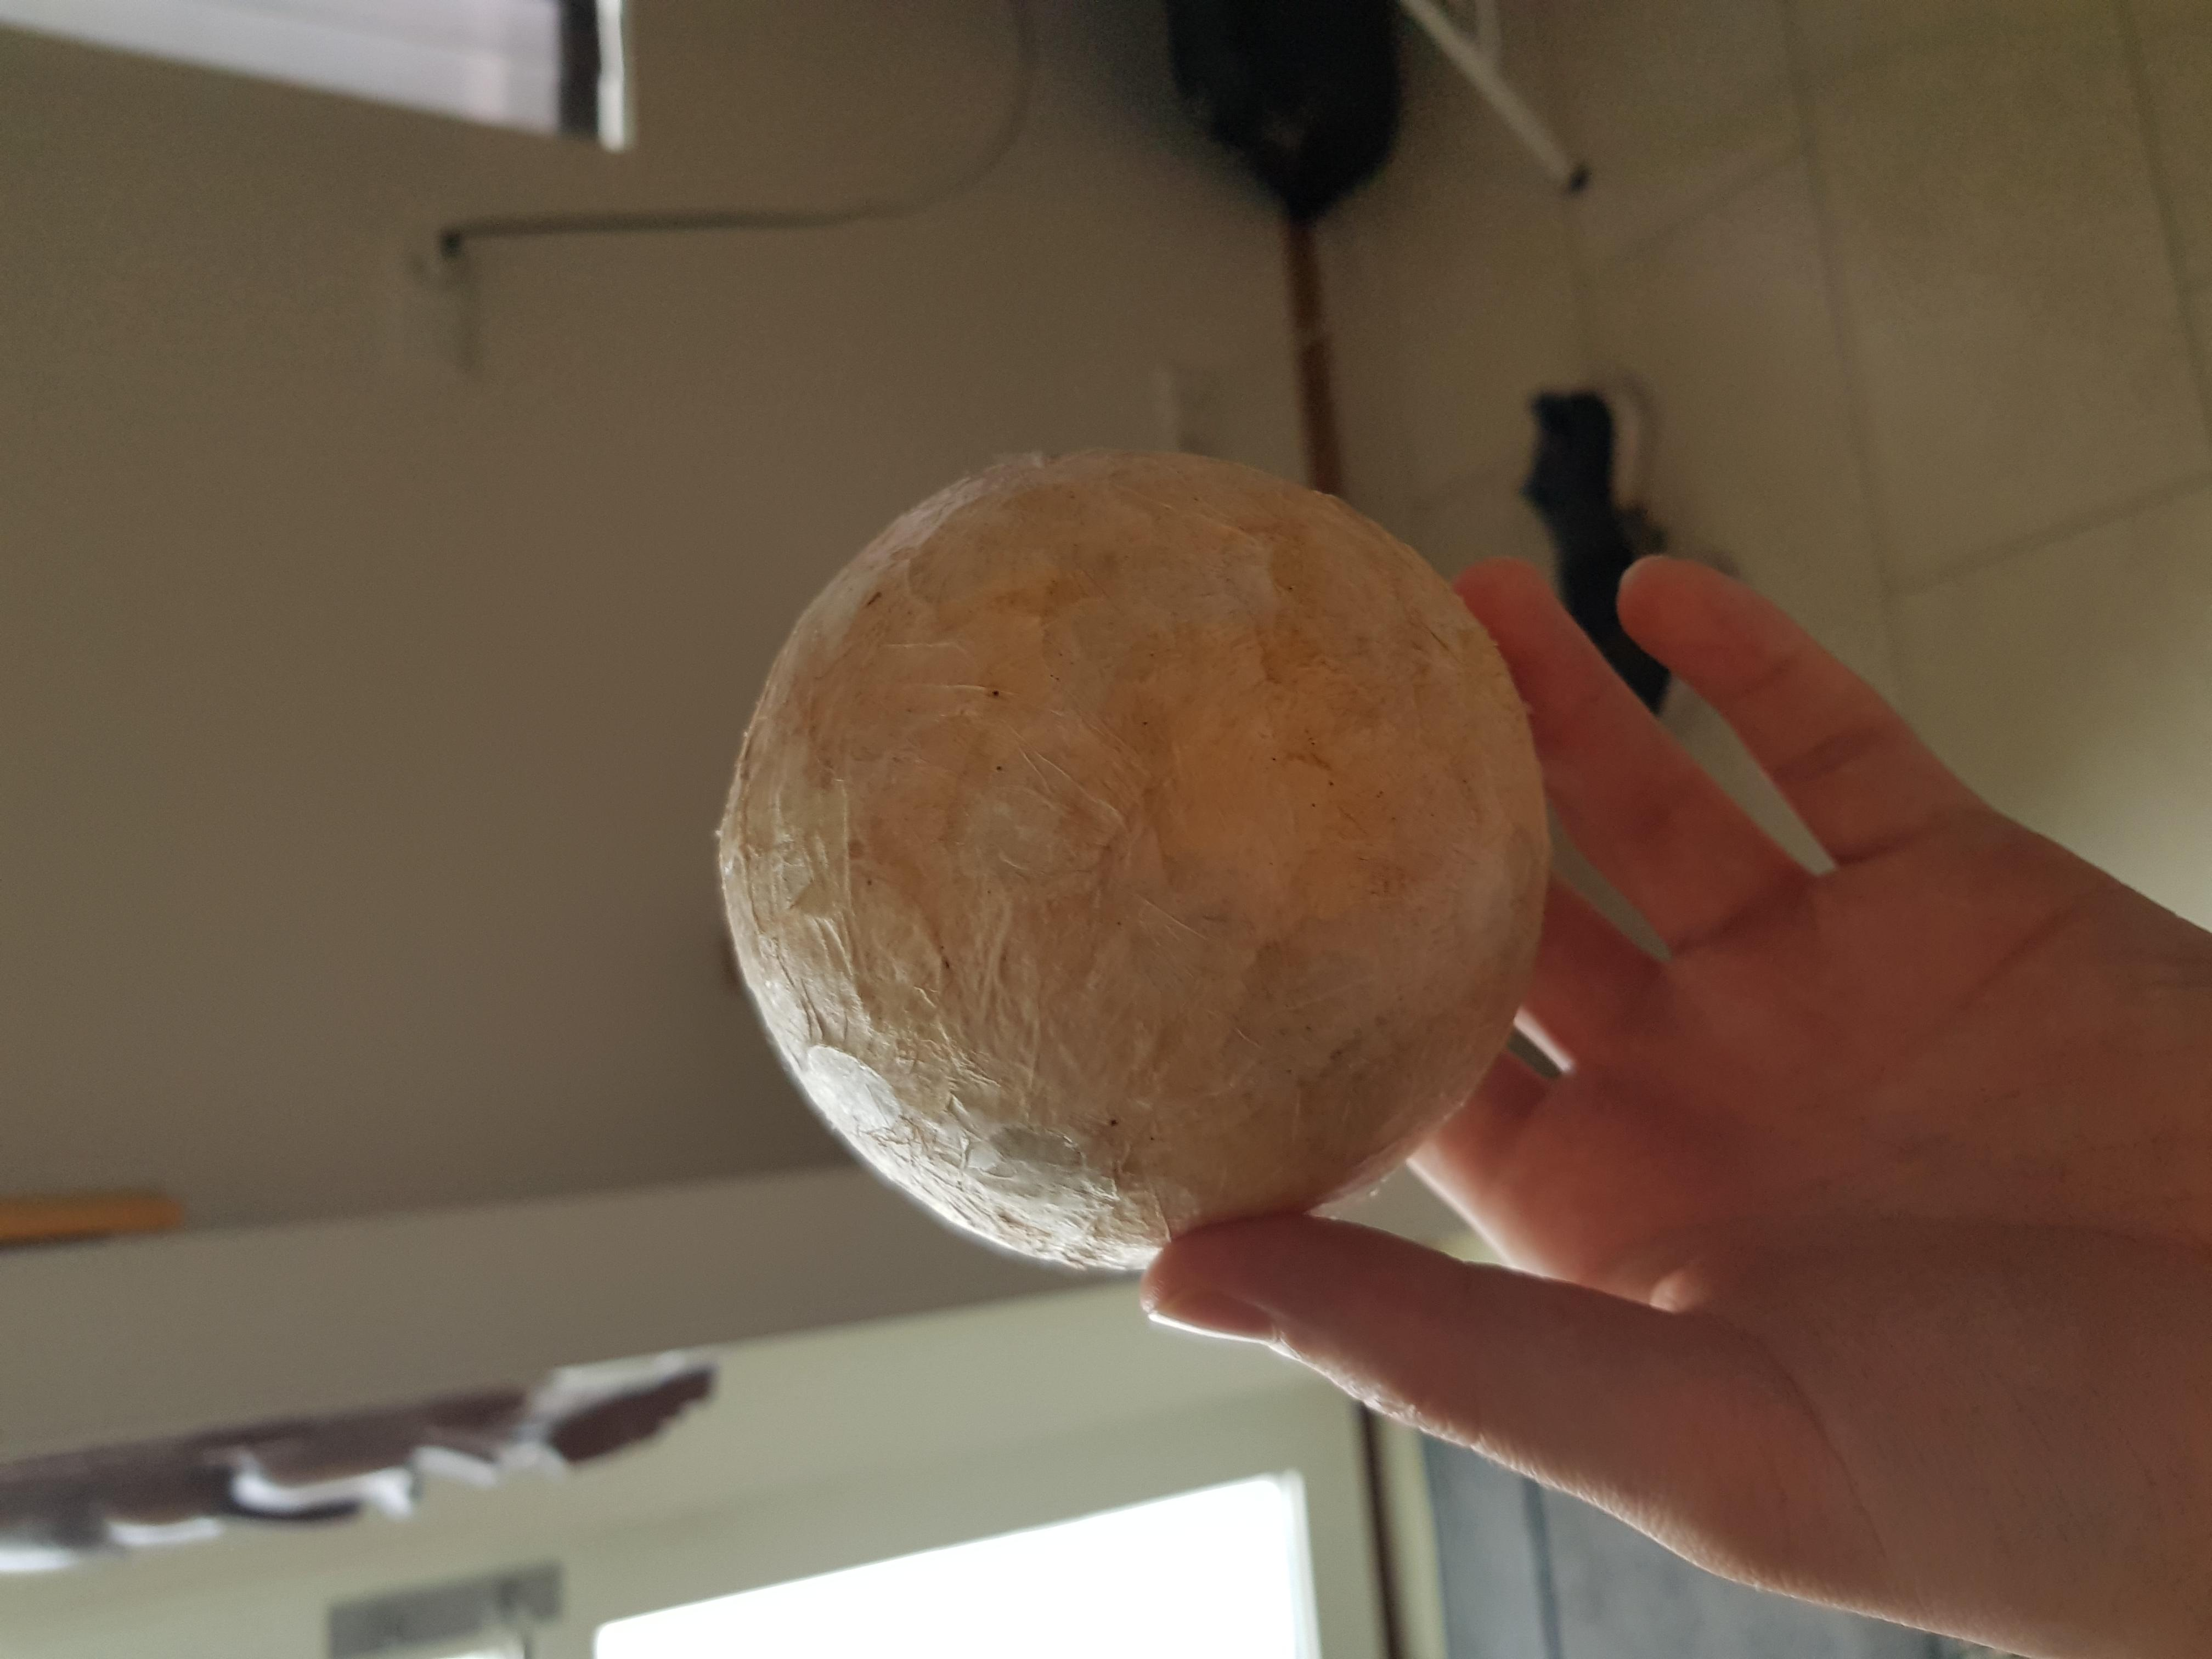Sphere: (712, 444, 1552, 1277)
